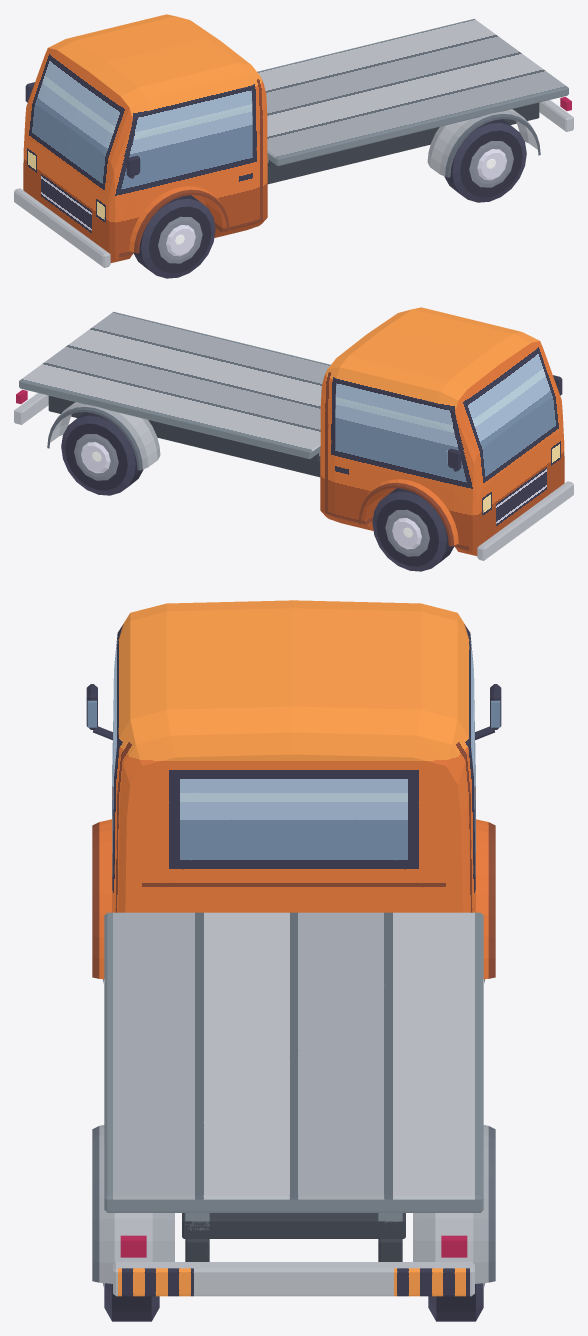
The picture shows the model from 3 angles, top to bottom: view 1: azimuth 30°, elevation 25°; view 2: azimuth 150°, elevation 25°; view 3: azimuth 270°, elevation 25°; orthographic projection. The views are drawn at different scales.
Visible parts, largest first — view 1: Body_static, Wheel_FL_tire_hub, Wheel_RL_tire_hub; view 2: Body_static, Wheel_FR_tire_hub, Wheel_RR_tire_hub; view 3: Body_static, Wheel_RL_tire_hub, Wheel_RR_tire_hub.
Boxes of the visible parts, <box> form: Body_static: <box>14,14,573,267</box>; Wheel_FL_tire_hub: <box>133,195,215,278</box>; Wheel_RL_tire_hub: <box>444,119,526,202</box>; Body_static: <box>14,307,573,560</box>; Wheel_FR_tire_hub: <box>372,488,454,571</box>; Wheel_RR_tire_hub: <box>61,412,143,495</box>; Body_static: <box>86,600,501,1296</box>; Wheel_RL_tire_hub: <box>103,1283,159,1321</box>; Wheel_RR_tire_hub: <box>428,1283,484,1321</box>.
Size of the model in its own units: 110 by 41.93 by 41.83.
1 material, 1 textured.
